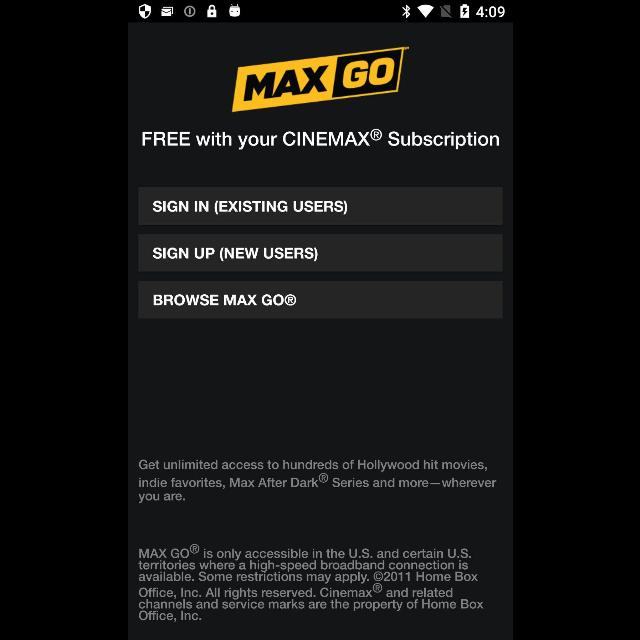image: (231, 47, 409, 113)
text: (137, 544, 483, 622), (137, 458, 496, 504), (141, 129, 499, 151)
textbutton: (138, 281, 502, 319), (138, 234, 502, 272), (138, 188, 502, 225)
uppertaskbar: (128, 1, 512, 23)
